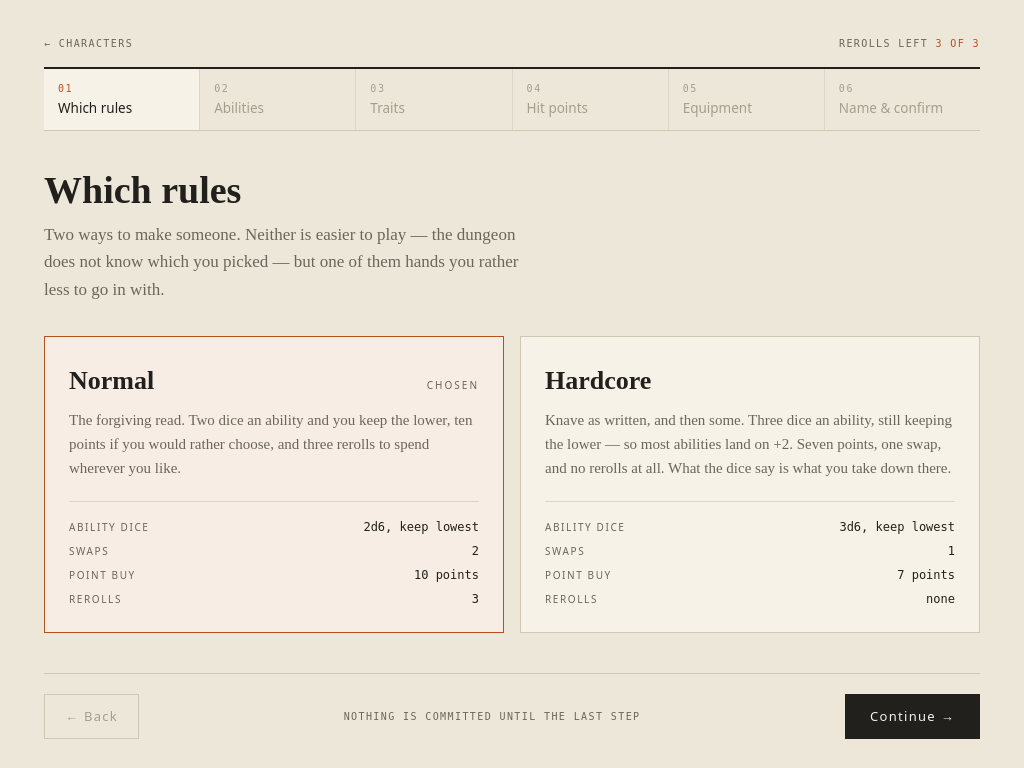
Test case: swapping abilities › trades two abilities and offers the swap back
The image size is (1024, 768).
Click the button "02 Abilities": [278, 100] box x1=200 y1=69 x2=356 y2=130
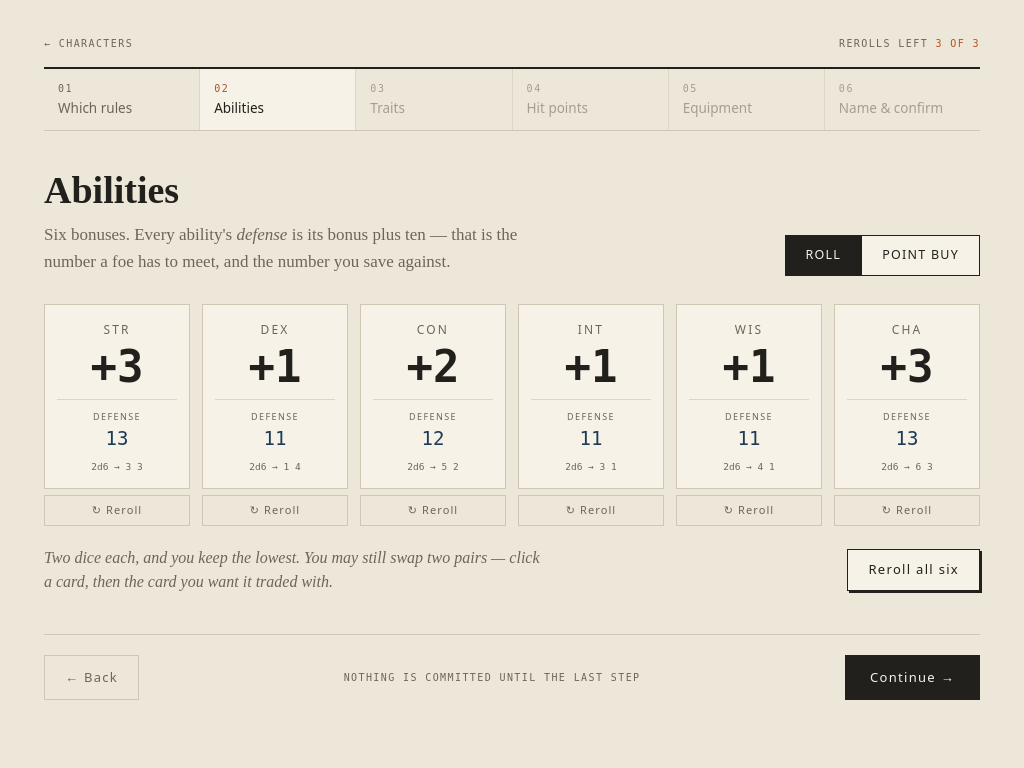
Click the button "str +3 Defense 13 2d6 → 3 3": [117, 397] box x1=44 y1=304 x2=190 y2=489
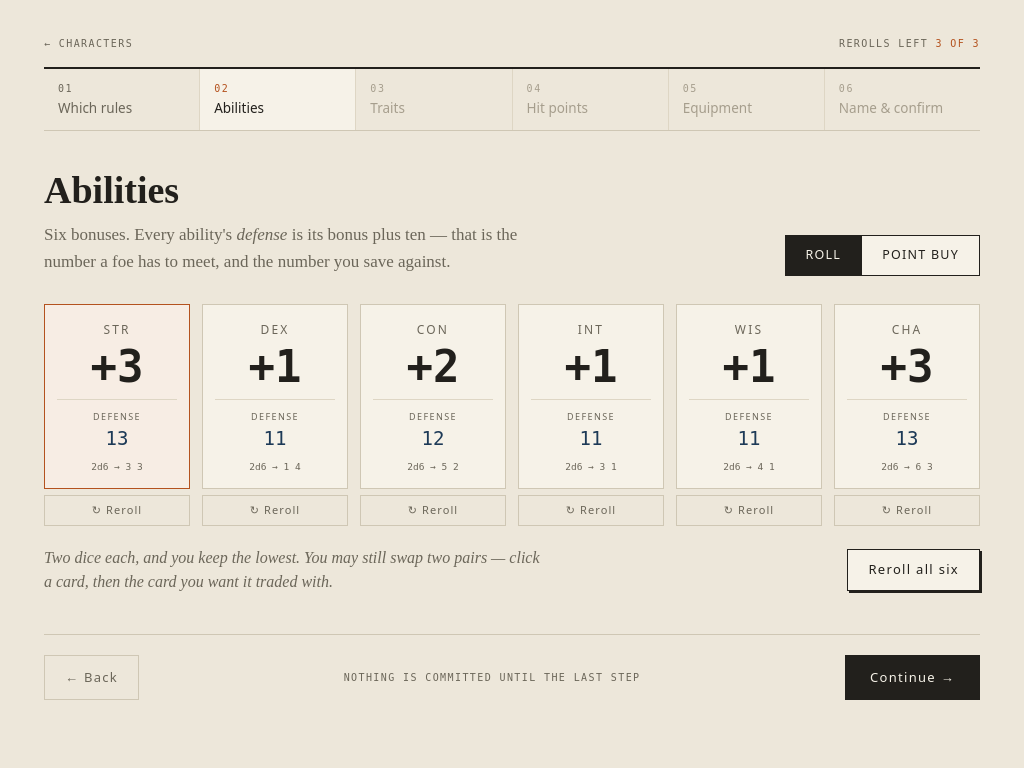
Click the button "dex +1 Defense 11 2d6 → 1 4": [275, 397] box x1=202 y1=304 x2=348 y2=489
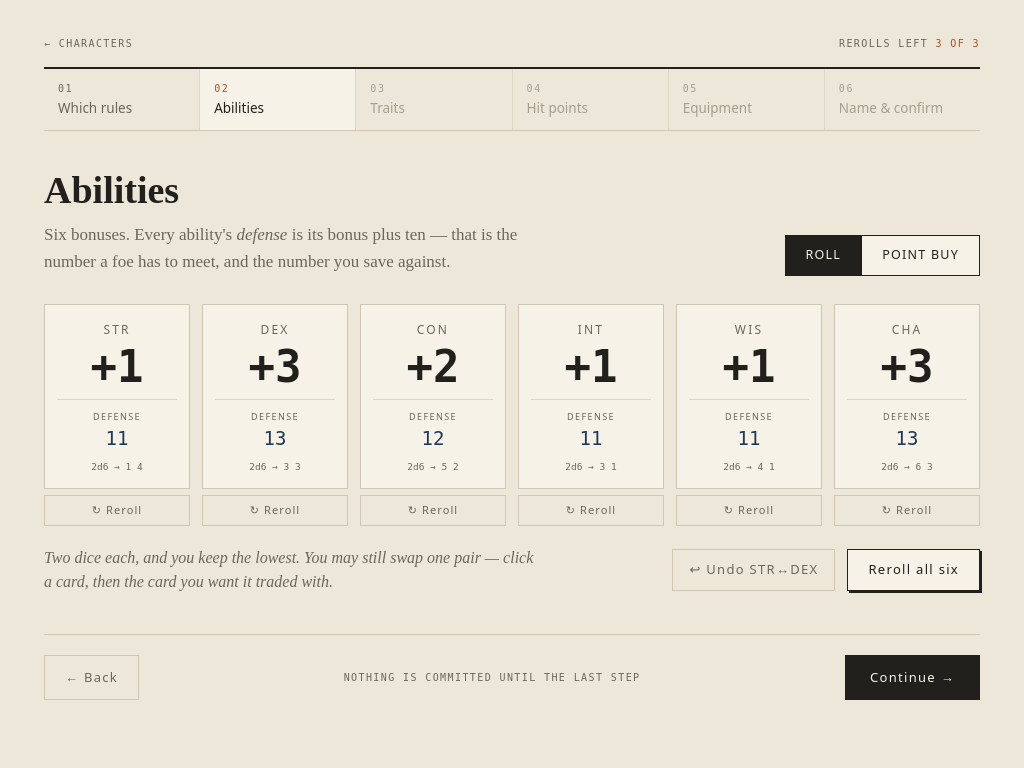
Check: the button "↩ Undo STR↔DEX" is shown, box x1=672 y1=549 x2=836 y2=590
